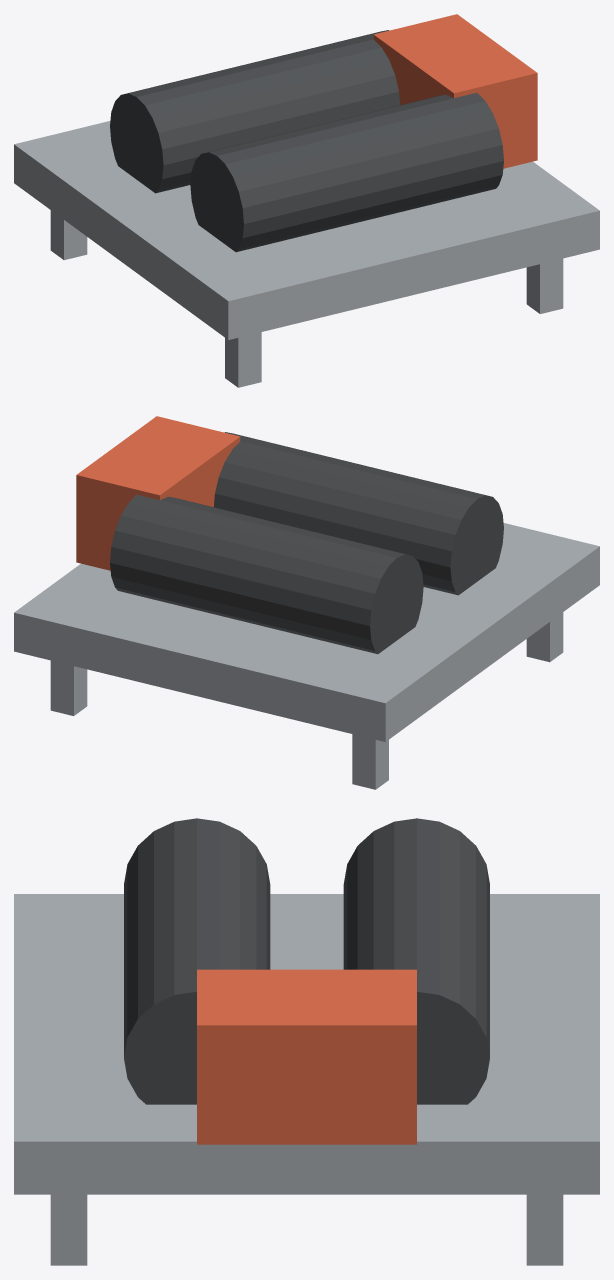
The model's file is motorcycle-racing-and-street-bikes-starter-roller-27a2107d__15441.glb.
3 renders of one model, top to bottom at view 1: azimuth 30°, elevation 25°; view 2: azimuth 150°, elevation 25°; view 3: azimuth 270°, elevation 25°, orthographic. The views are drawn at different scales.
Visible parts, largest first — view 1: starter-roller; view 2: starter-roller; view 3: starter-roller.
Boxes of the visible parts, x1,y1,x2,y2 form: starter-roller: (14, 14, 599, 387); starter-roller: (14, 416, 599, 789); starter-roller: (14, 818, 599, 1265).
Size of the model in its own units: 0.81 by 0.39 by 0.8.
